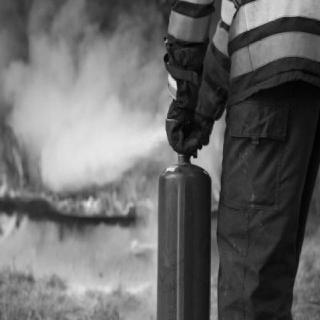Fire: (2, 136, 148, 218), (207, 116, 225, 220)
Smoke: (22, 21, 160, 181)
